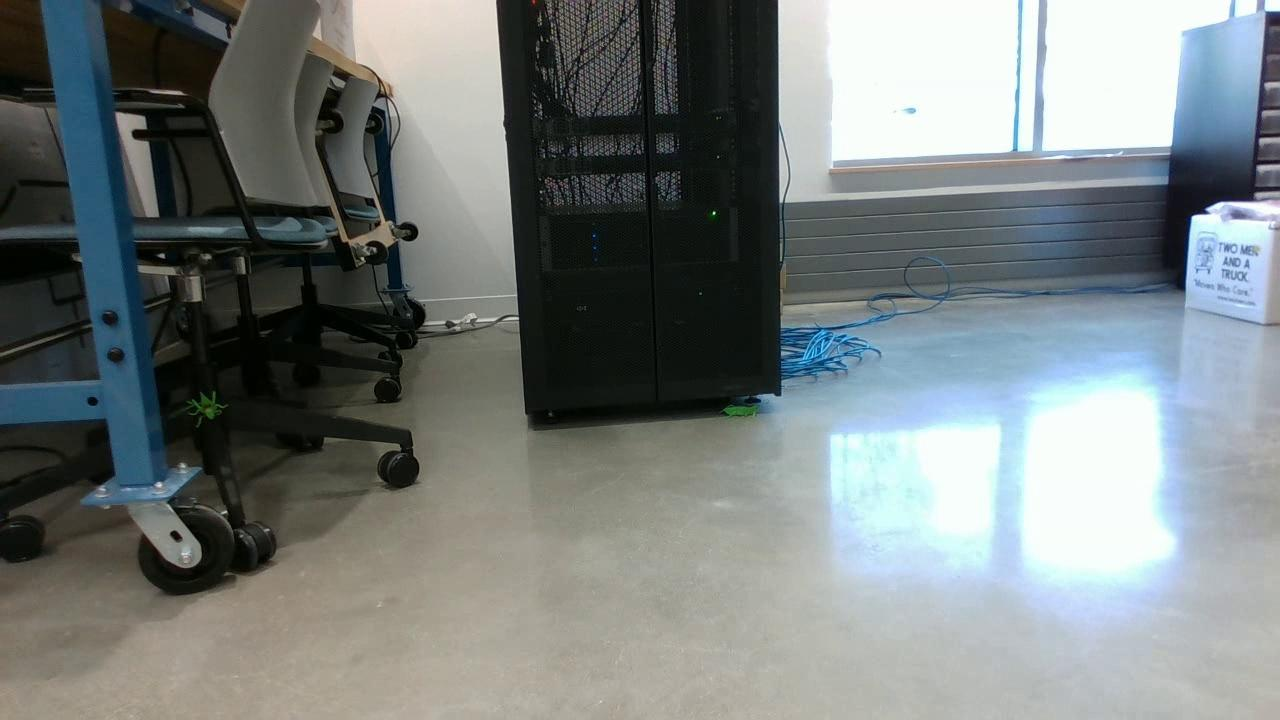grasshopper: (185, 386, 226, 433), (710, 400, 770, 419)
